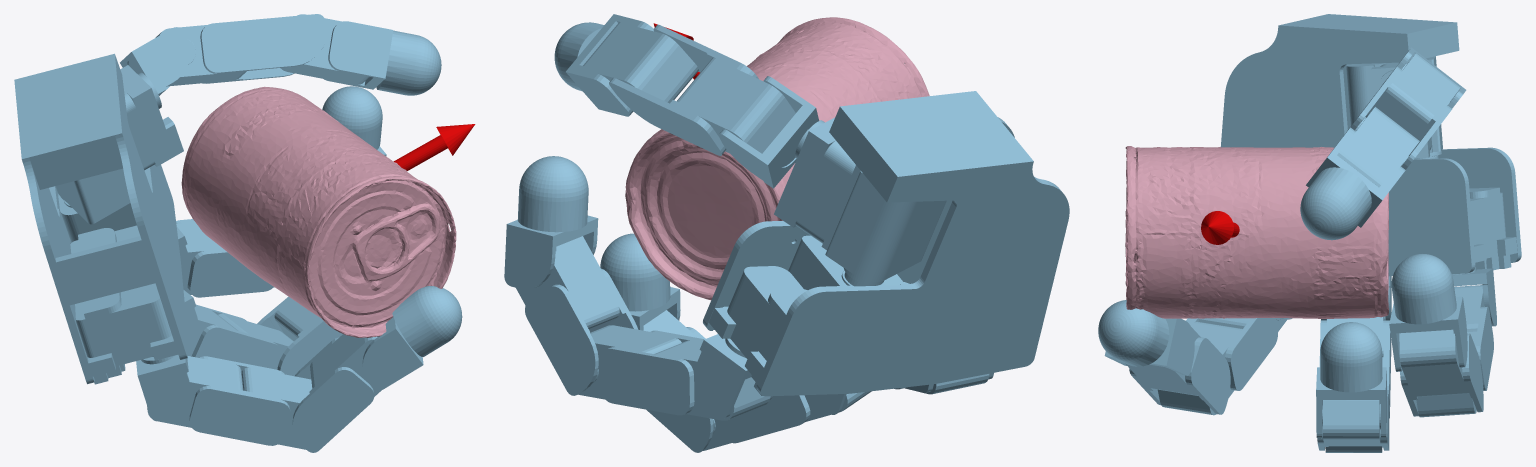
3 renders of one model, left to right at view 1: azimuth 30°, elevation 25°; view 2: azimuth 150°, elevation 25°; view 3: azimuth 270°, elevation 25°, orthographic. The views are drawn at different scales.
Visible parts, largest first — view 1: world, tomato_soup_can.stl; view 2: world, tomato_soup_can.stl; view 3: world, tomato_soup_can.stl.
Boxes of the visible parts, box(x1,y1,x2,y2) form: world: box(14, 14, 475, 452); tomato_soup_can.stl: box(181, 86, 456, 337); world: box(504, 14, 1069, 452); tomato_soup_can.stl: box(625, 17, 929, 300); world: box(1098, 14, 1521, 452); tomato_soup_can.stl: box(1125, 146, 1388, 318).
Size of the model in its own units: 0.1914 by 0.1545 by 0.1635.
